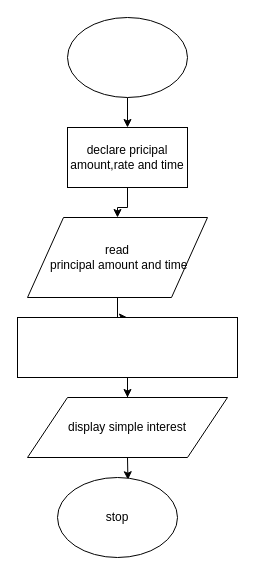
The diagram is 255 pixels wide and 575 high, and some of its shapes have lost their labels. The shapes that lost their labels are listed below. From the top down, each one's centre as x and y in pixels, then its label:
At point 127,57: "start".
At point 127,347: "simple interest=(amount*rate*time)/100".
